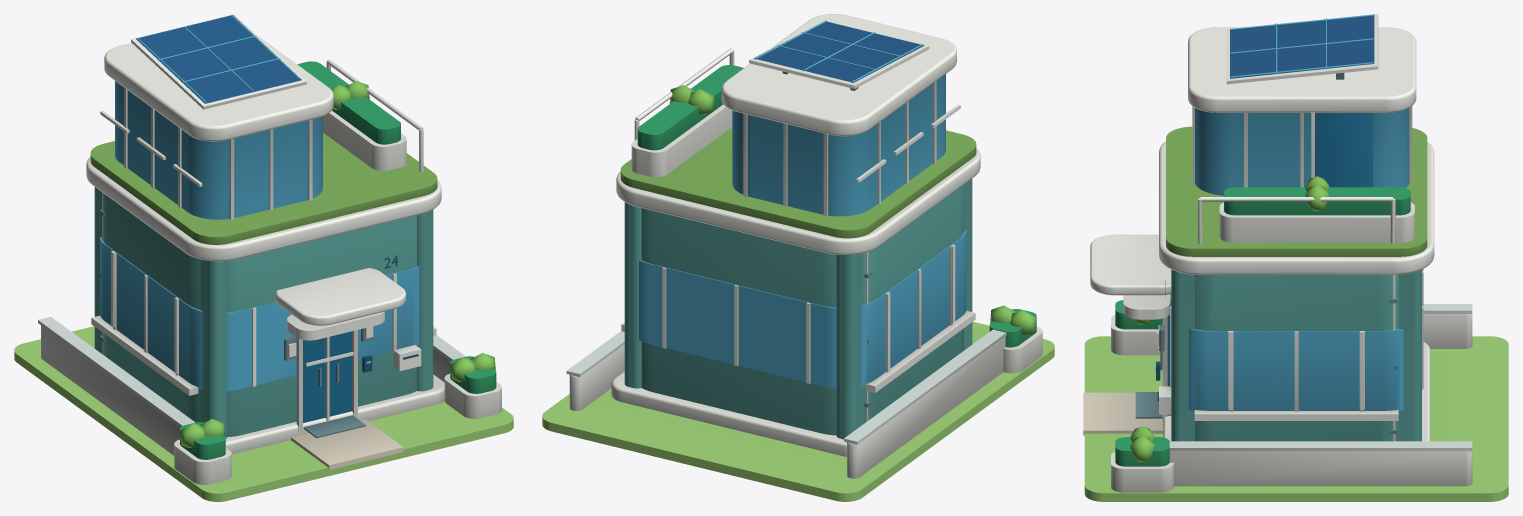
Rendered from house-terrace.glb.
3 renders of one model, left to right at view 1: azimuth 30°, elevation 25°; view 2: azimuth 150°, elevation 25°; view 3: azimuth 270°, elevation 25°, orthographic. The views are drawn at different scales.
Parts seen in each view (by area): view 1: house footing, continuous blue glazing, house shell, residential garden, residential roof garden, photovoltaic cells, planter foliage, recessed entrance, front walk, garden wall cap, shrub tip, panel foot; view 2: house footing, continuous blue glazing, house shell, residential garden, residential roof garden, photovoltaic cells, planter foliage, garden wall cap, shrub tip; view 3: house footing, continuous blue glazing, house shell, residential garden, residential roof garden, photovoltaic cells, planter foliage, recessed entrance, garden wall cap, front walk, shrub tip, panel foot.
Part boxes in pixels (box(x1,y1,x2,y2)): house footing: box(41, 14, 501, 484); continuous blue glazing: box(100, 15, 419, 391); house shell: box(94, 187, 433, 438); residential garden: box(14, 326, 513, 501); residential roof garden: box(90, 132, 437, 244); photovoltaic cells: box(136, 15, 301, 103); planter foliage: box(180, 61, 496, 459); recessed entrance: box(303, 331, 351, 422); front walk: box(291, 419, 403, 469); garden wall cap: box(38, 316, 465, 427); shrub tip: box(180, 81, 495, 447); panel foot: box(99, 209, 373, 438); house footing: box(569, 14, 1042, 478); continuous blue glazing: box(639, 20, 966, 388); house shell: box(624, 179, 972, 439); residential garden: box(542, 321, 1054, 501); residential roof garden: box(620, 127, 976, 238); photovoltaic cells: box(754, 21, 924, 82); planter foliage: box(637, 65, 1036, 347); garden wall cap: box(566, 329, 1006, 444); shrub tip: box(669, 85, 1036, 335); house footing: box(1090, 14, 1472, 492); continuous blue glazing: box(1189, 14, 1409, 410); house shell: box(1171, 269, 1421, 441); residential garden: box(1084, 336, 1508, 501); residential roof garden: box(1166, 126, 1427, 256); photovoltaic cells: box(1230, 14, 1374, 78); planter foliage: box(1115, 187, 1410, 466); recessed entrance: box(1167, 113, 1372, 415); garden wall cap: box(1169, 304, 1472, 451); front walk: box(1083, 392, 1163, 435); shrub tip: box(1130, 176, 1328, 461); panel foot: box(1135, 73, 1397, 433).
Bounding box in the file's own units: 2.73 × 2.91 × 3.09.
